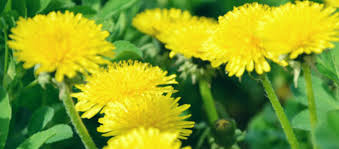begonvil: (8, 9, 111, 82), (210, 2, 285, 80), (78, 57, 168, 118), (93, 98, 196, 149), (136, 0, 220, 60), (260, 0, 339, 60)
